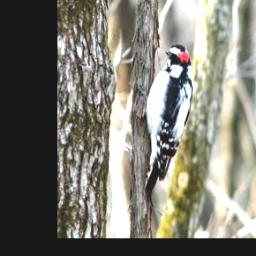Woodpecker: (138, 44, 196, 205)
